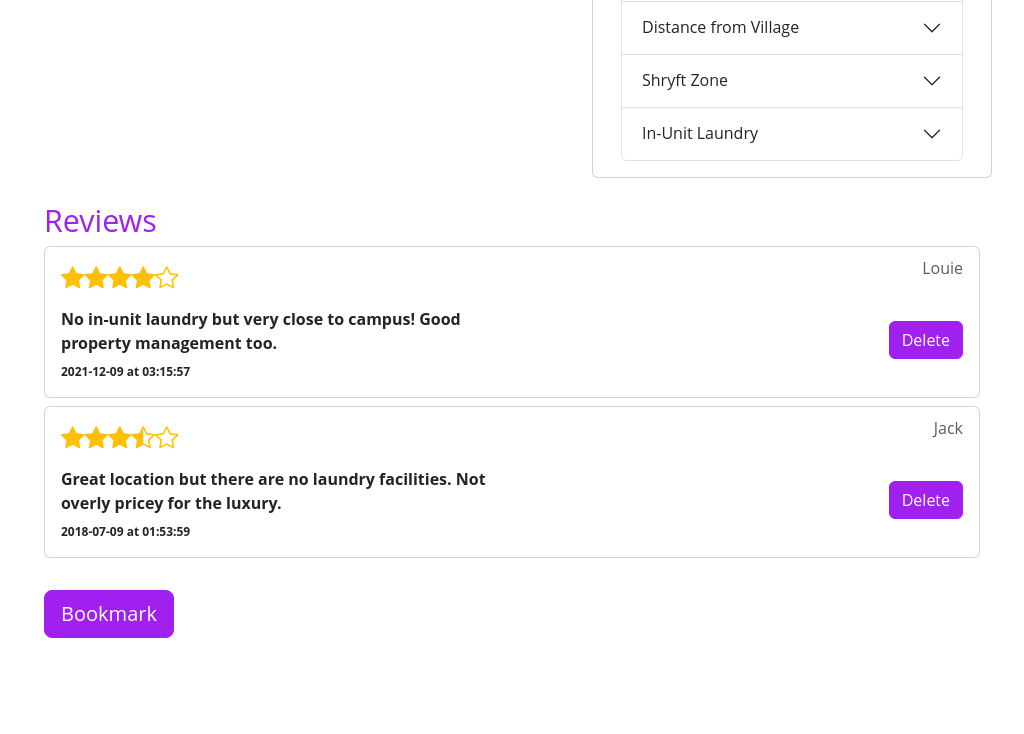
pressing bookmark button bookmarks the property if the property is not yet bookmarked
This screenshot has width=1024, height=734.
(page scrolled)
Click the button with test id "bookmark-button" at (109, 614), box x1=44 y1=590 x2=174 y2=638
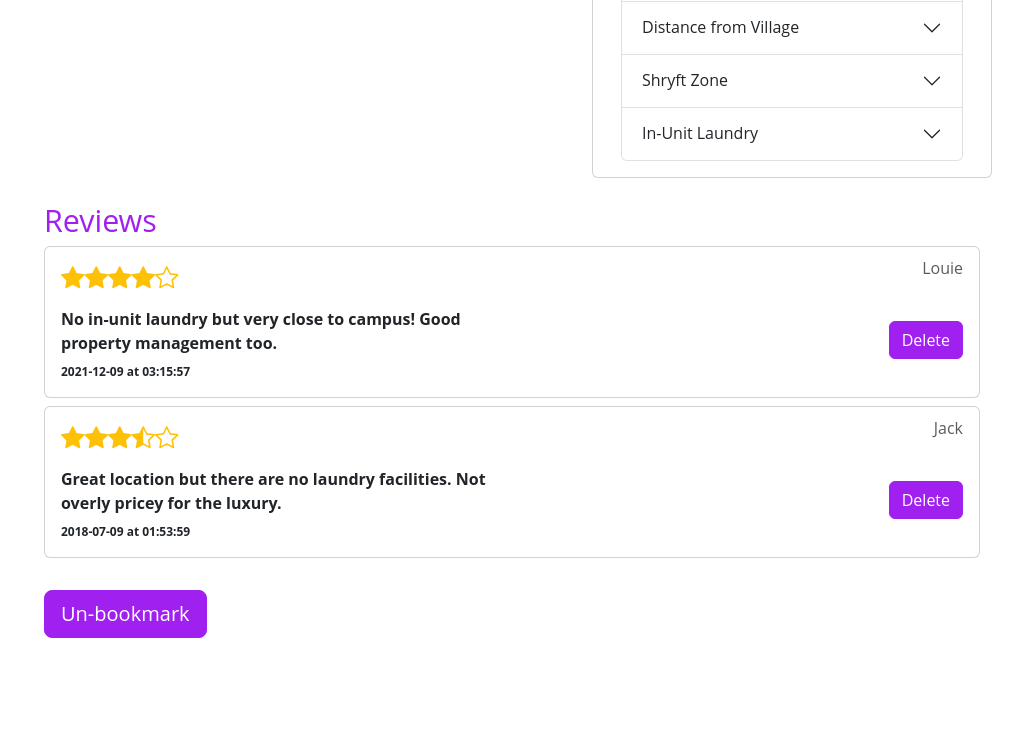
Result: the button with test id "bookmark-button" reads "Un-bookmark" at x1=44 y1=590 x2=207 y2=638
